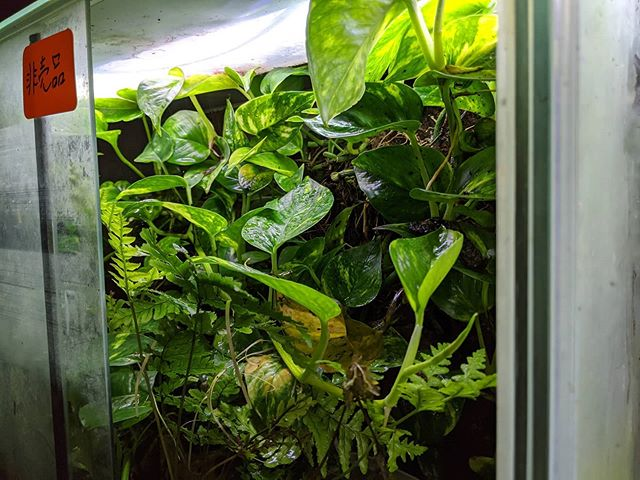vegetation: (104, 15, 507, 480)
